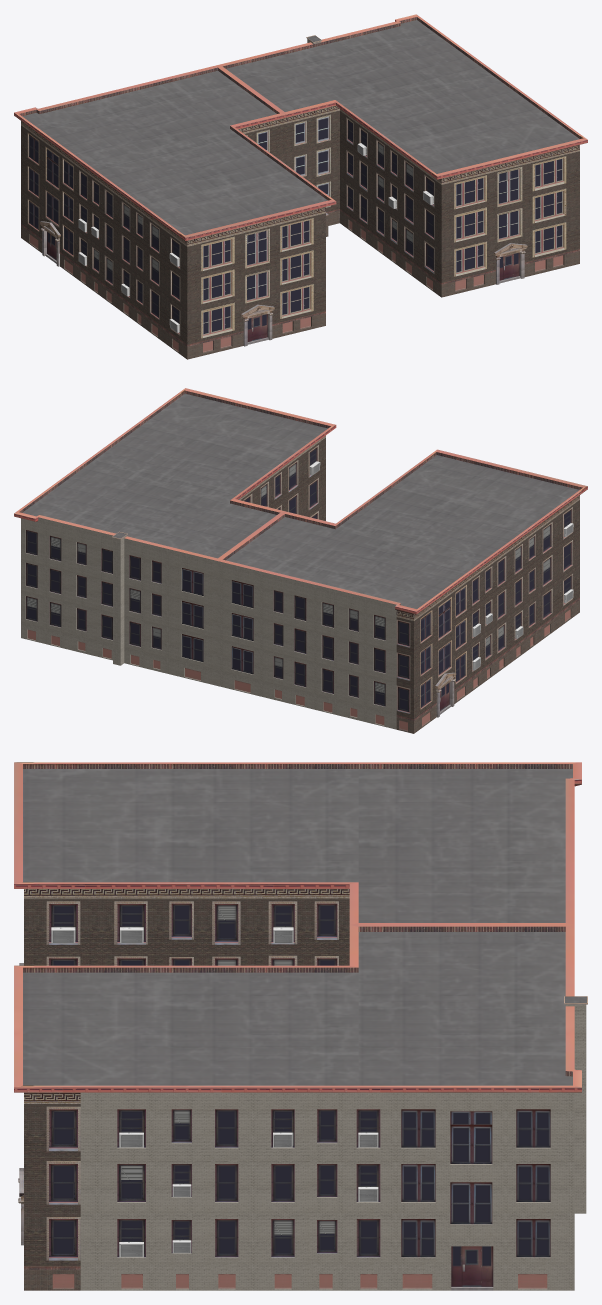
The model's file is blackstone_apartments.glb.
The picture shows the model from 3 angles, top to bottom: view 1: azimuth 30°, elevation 25°; view 2: azimuth 150°, elevation 25°; view 3: azimuth 270°, elevation 25°; orthographic projection. The views are drawn at different scales.
Visible parts, largest first — view 1: Object_3; view 2: Object_3; view 3: Object_3.
Part boxes in pixels (bbox=[...]): Object_3: bbox=[14, 14, 587, 359]; Object_3: bbox=[14, 388, 587, 733]; Object_3: bbox=[14, 762, 587, 1290].
Bounding box in the file's own units: 3776 × 1140 × 2815.
1 material, 1 textured.
